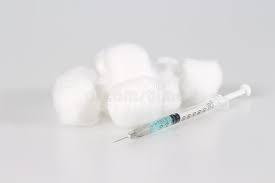Syringe: (114, 84, 250, 141)
cotton: (53, 44, 221, 127), (97, 52, 221, 127), (96, 44, 180, 127), (95, 43, 162, 126), (107, 57, 180, 127), (156, 57, 221, 112), (96, 43, 155, 91), (107, 77, 162, 127), (53, 67, 99, 124), (180, 59, 222, 104), (156, 57, 181, 113), (94, 49, 111, 115), (95, 49, 110, 115), (94, 49, 108, 115), (161, 72, 181, 113), (156, 57, 180, 76), (96, 80, 108, 116), (95, 49, 106, 75)
